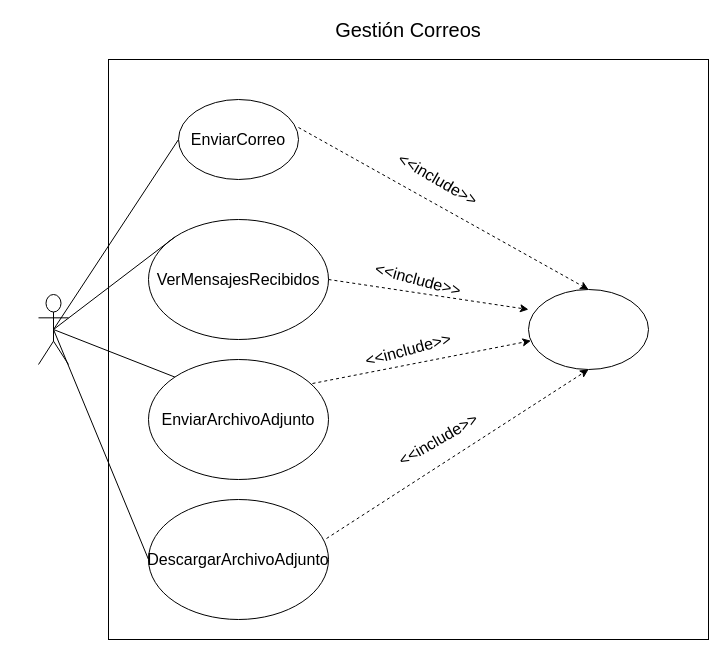
The diagram is 726 pixels wide and 657 high, and some of its shapes have lost their labels. The shapes that lost their labels are listed below. From the top down, each one's centre as x and y in pixels, then its label:
pixel 53 329: USUARIO
pixel 588 329: IniciarSesión
